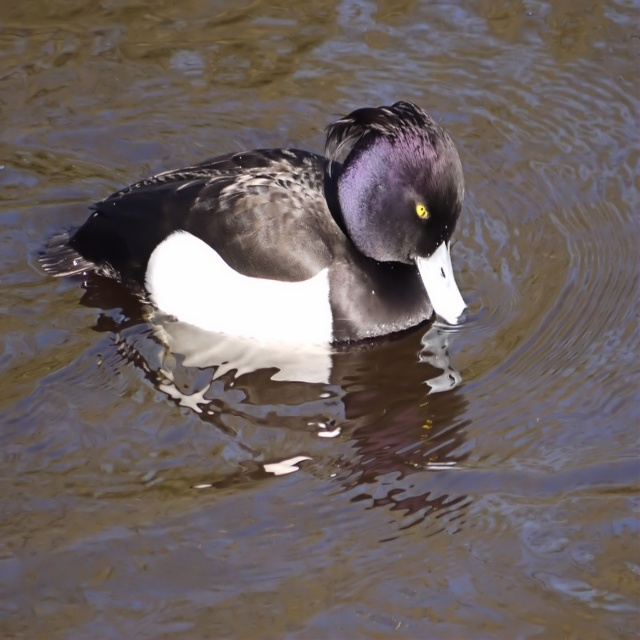Duck: (37, 98, 469, 341)
